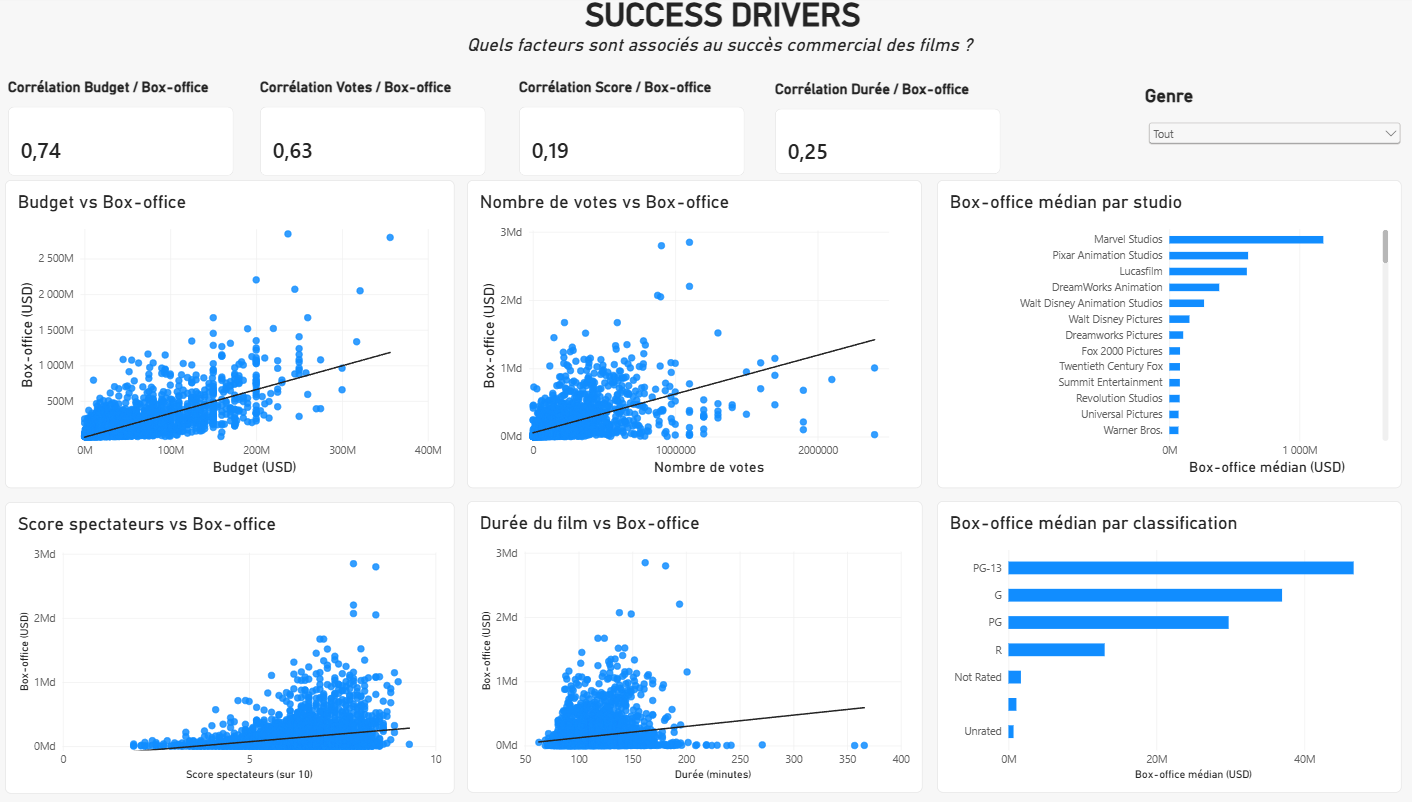

Layout of this report page (visuals, bound fields, positions):
{"tool":"powerbi","page":{"name":"SUCCESS DRIVERS","canvas":[1920,1080],"ordinal":1},"visuals":[{"type":"textbox","box":[800,0,380,50],"z":0},{"type":"scatterChart","title":"Budget vs Box-office","fields":{"X":["movies_clean.budget"],"Y":["movies_clean.gross"]},"box":[27.5,245,597.5,410],"z":1000},{"type":"cardVisual","title":"Corrélation Budget / Box-office","fields":{"Data":["movies_clean.Correlation_Budget_Gross"]},"box":[31.8,108.9,300,130],"z":2000},{"type":"scatterChart","title":"Score spectateurs vs Box-office","fields":{"X":["movies_clean.score"],"Y":["movies_clean.gross"]},"box":[27.5,672.5,597.5,387.5],"z":3000},{"type":"cardVisual","title":"Corrélation Score / Box-office","fields":{"Data":["movies_clean.Correlation_Score_Gross"]},"box":[711.8,108.9,300,130],"z":4000},{"type":"scatterChart","title":"Nombre de votes vs Box-office","fields":{"X":["movies_clean.votes"],"Y":["movies_clean.gross"]},"box":[642.5,245,605,410],"z":5000},{"type":"cardVisual","title":"Corrélation Votes / Box-office","fields":{"Data":["movies_clean.Correlation_Votes_Gross"]},"box":[366.8,108.9,300,130],"z":6000},{"type":"barChart","title":"Box-office médian par classification","fields":{"Category":["movies_clean.rating"],"Y":["movies_clean.Recette_Médiane"]},"box":[1268,672,618,388],"z":7000},{"type":"barChart","title":"Box-office médian par studio","fields":{"Category":["movies_clean.company"],"Y":["movies_clean.Recette_Médiane"]},"box":[1267.5,245,617.5,410],"z":8000},{"type":"scatterChart","title":"Durée du film vs Box-office","fields":{"X":["movies_clean.runtime"],"Y":["movies_clean.gross"]},"box":[642,672,606,388],"z":9000},{"type":"cardVisual","title":"Corrélation Durée / Box-office","fields":{"Data":["movies_clean.Correlation_Runtime_Gross"]},"box":[1051.8,111.4,300,125],"z":10000},{"type":"slicer","title":"Genre","fields":{"Values":["movies_clean.genre"]},"box":[1544.3,118.9,345,137.5],"z":11000},{"type":"textbox","box":[642.9,50,900,150],"z":12000}]}

Visuals, with their boxes in screenshot pixels (x1, y1, x2, y2), scaled from the page's 1920x1080 canvas onto the 1412x802 screenshot:
textbox: box(588, 0, 868, 37)
"Budget vs Box-office" scatterChart: box(20, 182, 460, 486)
"Corrélation Budget / Box-office" cardVisual: box(23, 81, 244, 177)
"Score spectateurs vs Box-office" scatterChart: box(20, 499, 460, 787)
"Corrélation Score / Box-office" cardVisual: box(523, 81, 744, 177)
"Nombre de votes vs Box-office" scatterChart: box(473, 182, 917, 486)
"Corrélation Votes / Box-office" cardVisual: box(270, 81, 490, 177)
"Box-office médian par classification" barChart: box(933, 499, 1387, 787)
"Box-office médian par studio" barChart: box(932, 182, 1386, 486)
"Durée du film vs Box-office" scatterChart: box(472, 499, 918, 787)
"Corrélation Durée / Box-office" cardVisual: box(774, 83, 994, 176)
"Genre" slicer: box(1136, 88, 1389, 190)
textbox: box(473, 37, 1135, 149)
